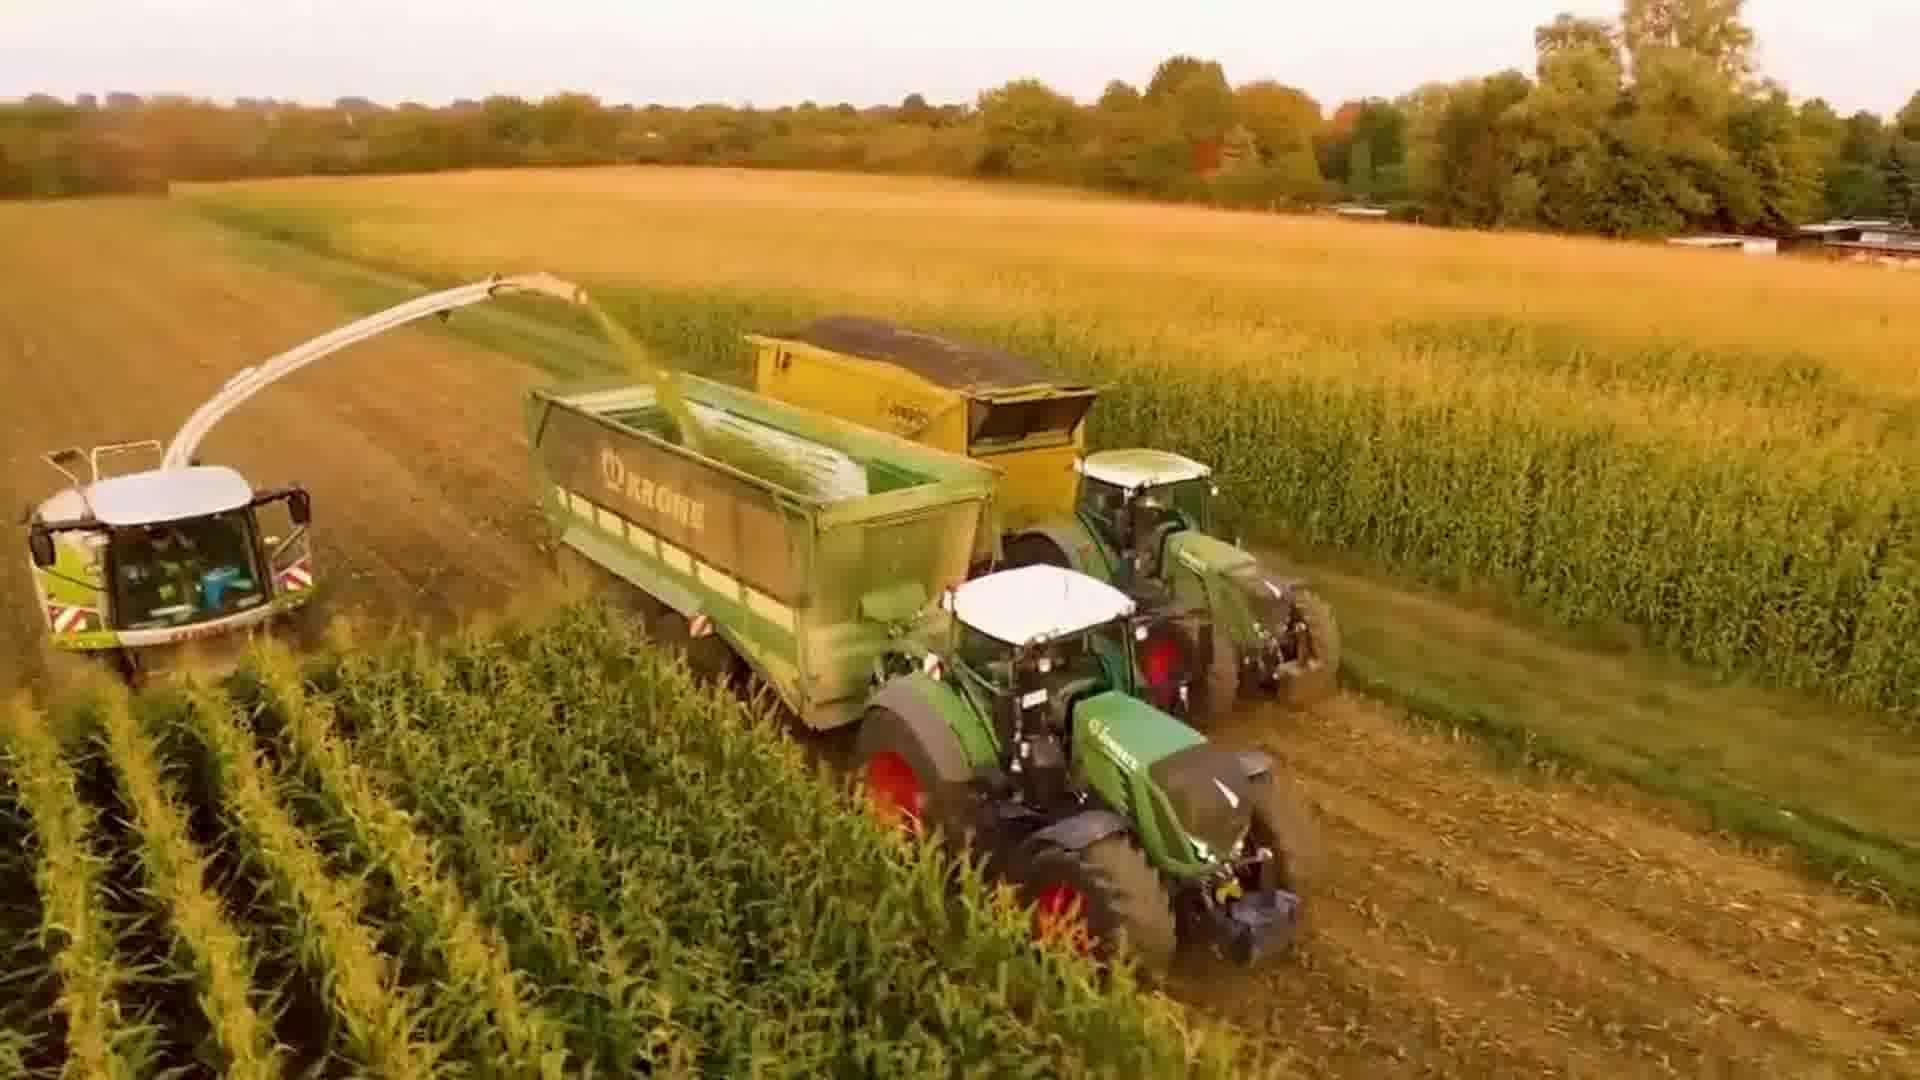combine harvester: (13, 262, 599, 702)
tractor: (839, 553, 1327, 1001), (996, 444, 1350, 725)
trailer: (513, 360, 1005, 736), (741, 309, 1088, 525)
